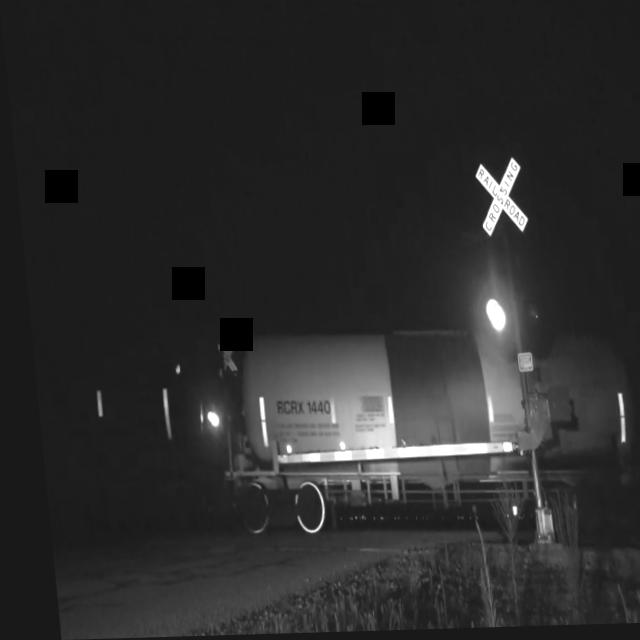tank: (211, 300, 640, 571)
